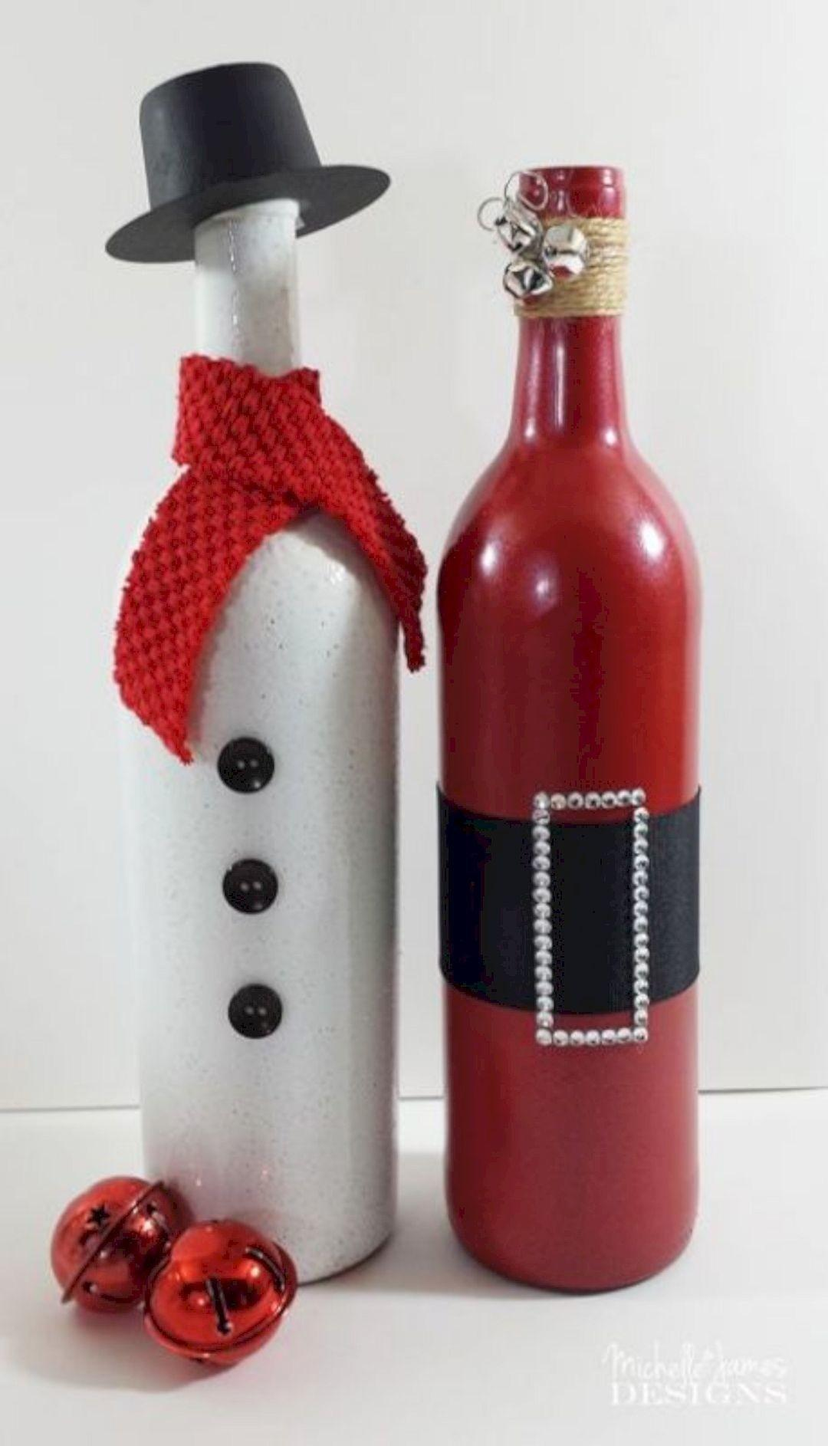bottle-glass: (106, 60, 418, 1296), (426, 152, 709, 1298)
